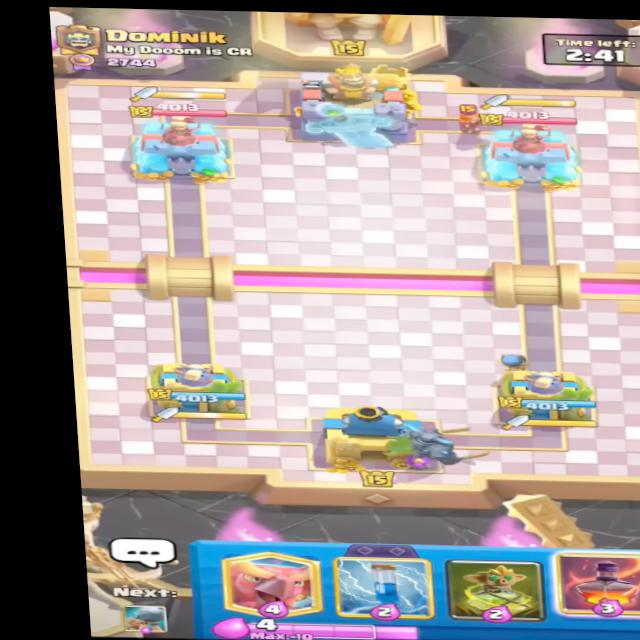Valk: (437, 102, 498, 134)
